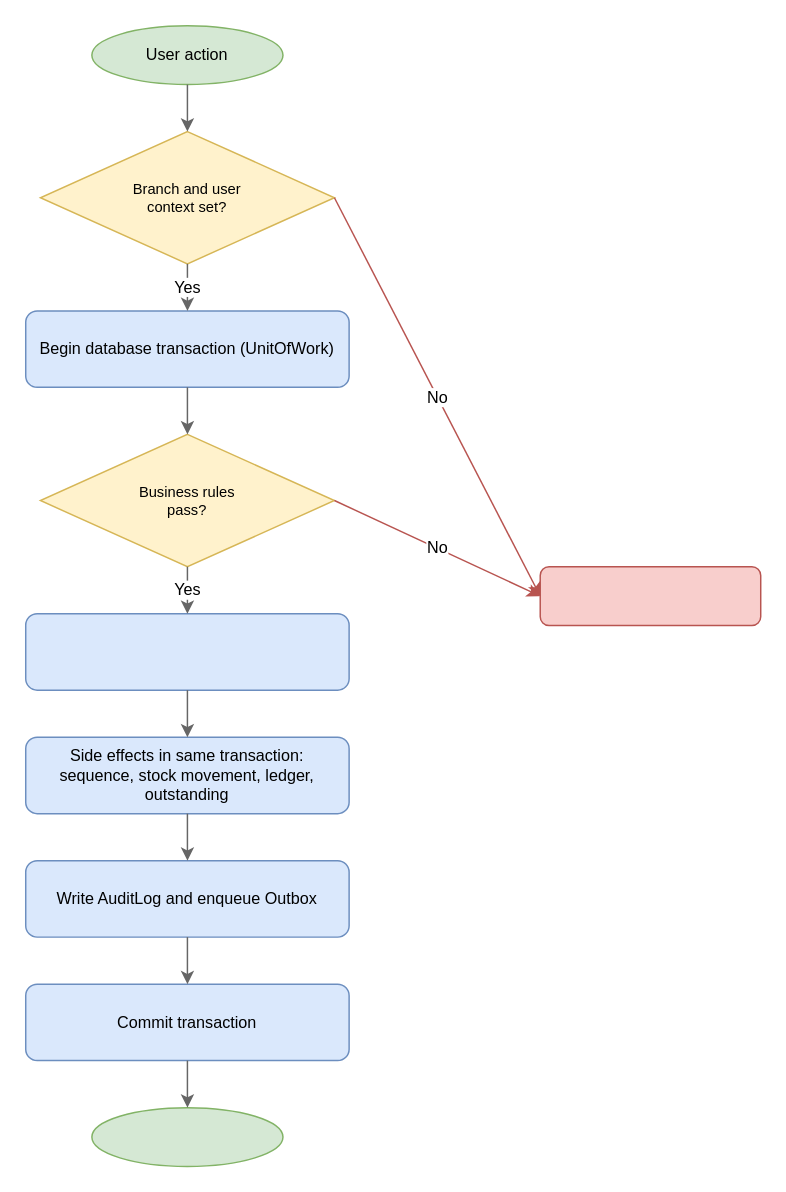
The diagram is 786 pixels wide and 1192 high, and some of its shapes have lost their labels. The box of each missing label's shape, as (x1, y1, x2, y2) in pixels:
Insert or update business document: (24, 612, 349, 690)
Rejected: (539, 565, 761, 625)
Success: (90, 1106, 283, 1166)
